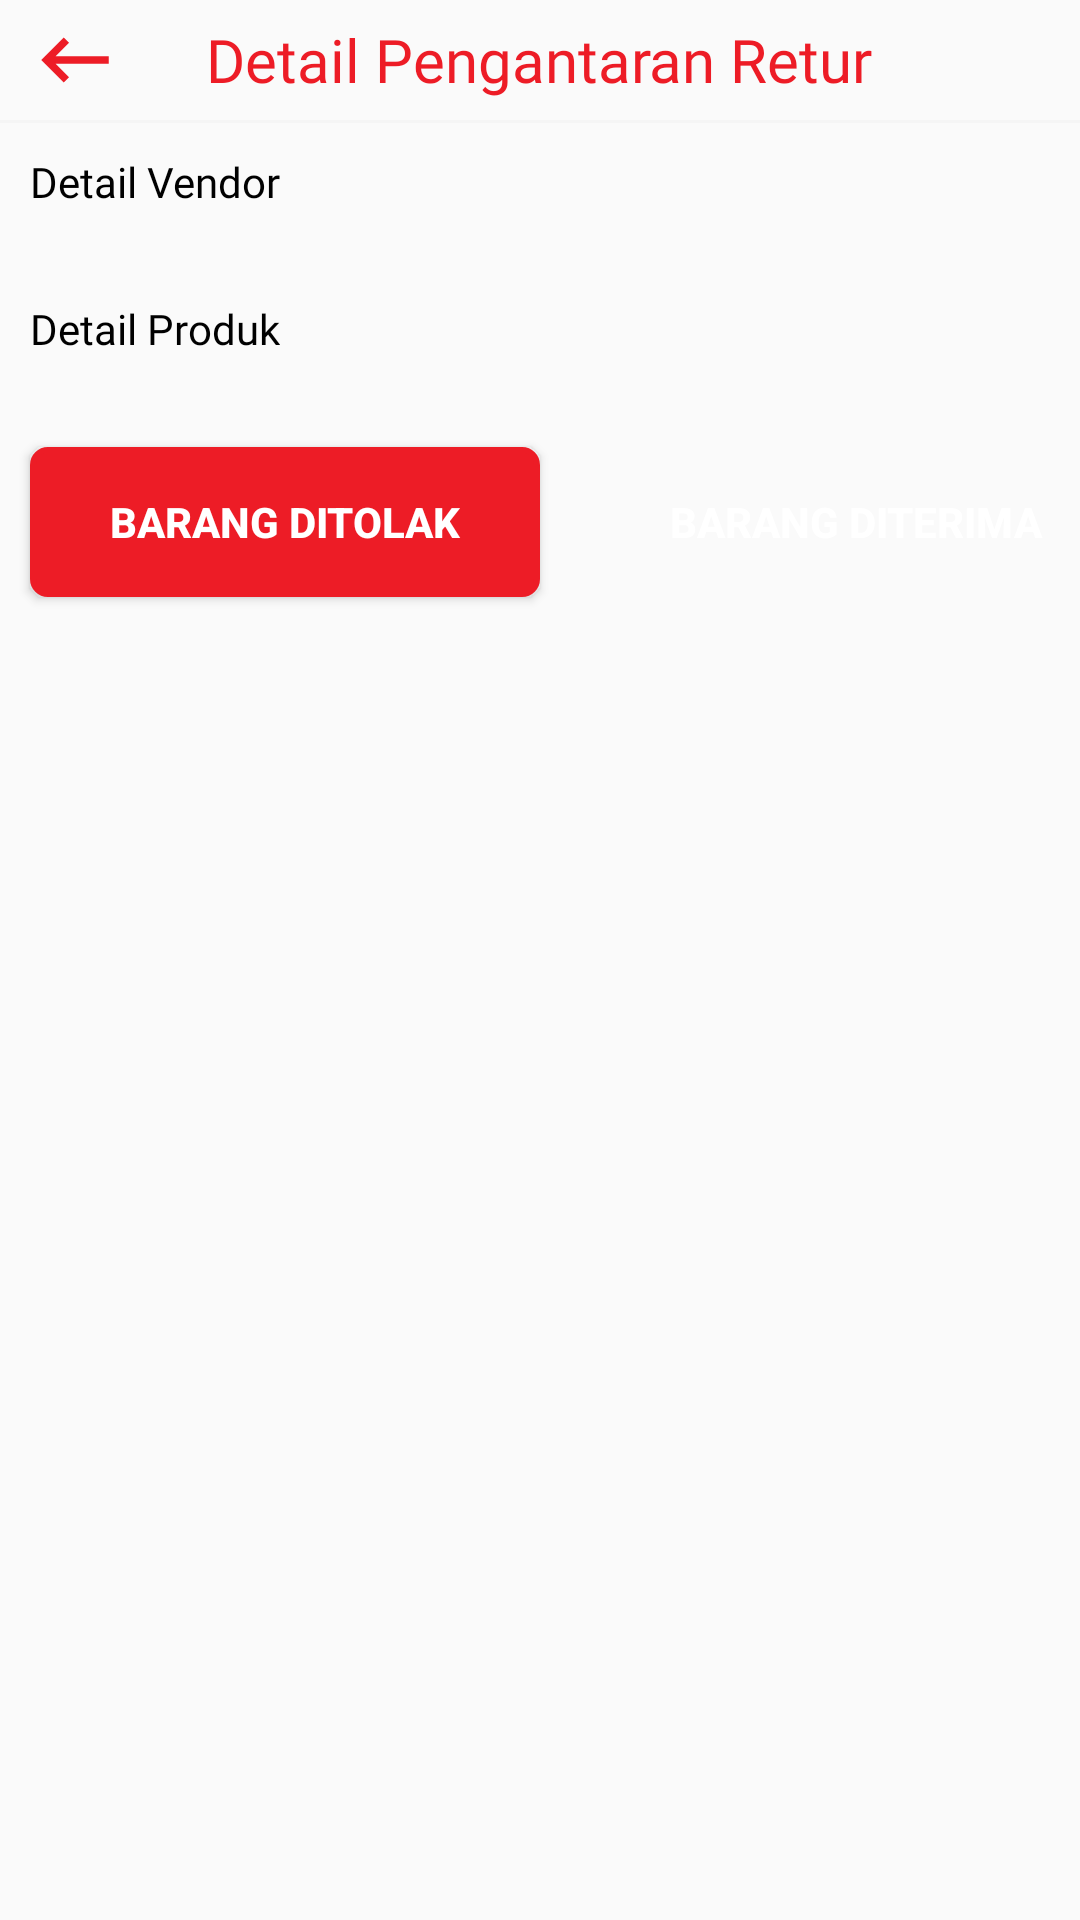

Locate icon controls on the screen. Image size 1080 x 1920, boxes as rect(x1, y1, x2, y2).
back: rect(41, 37, 109, 83)
